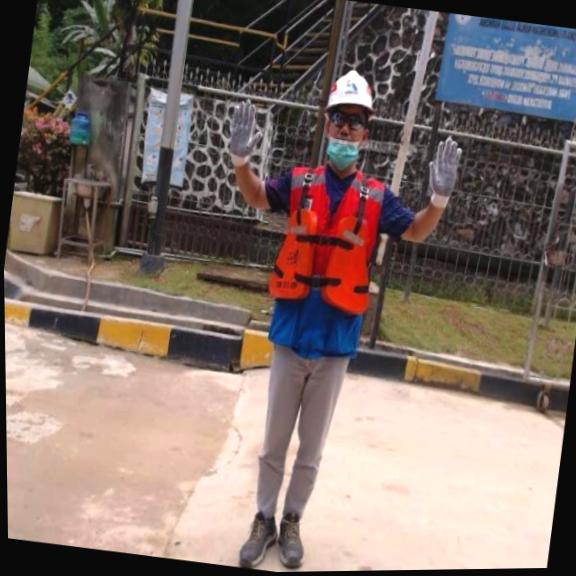safety_vest: (265, 203, 382, 316)
